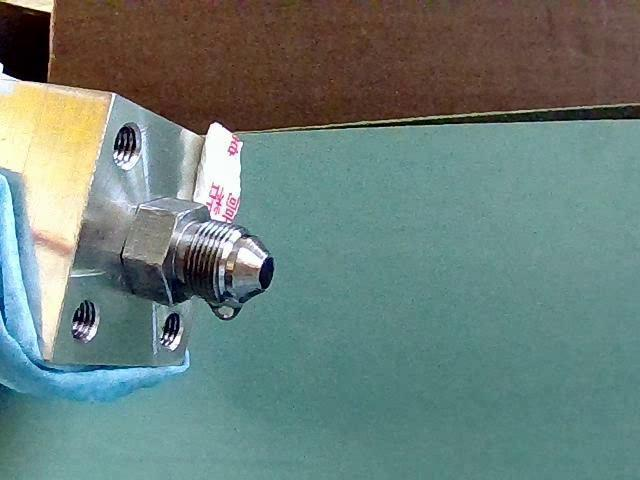water drop: (202, 298, 248, 320)
